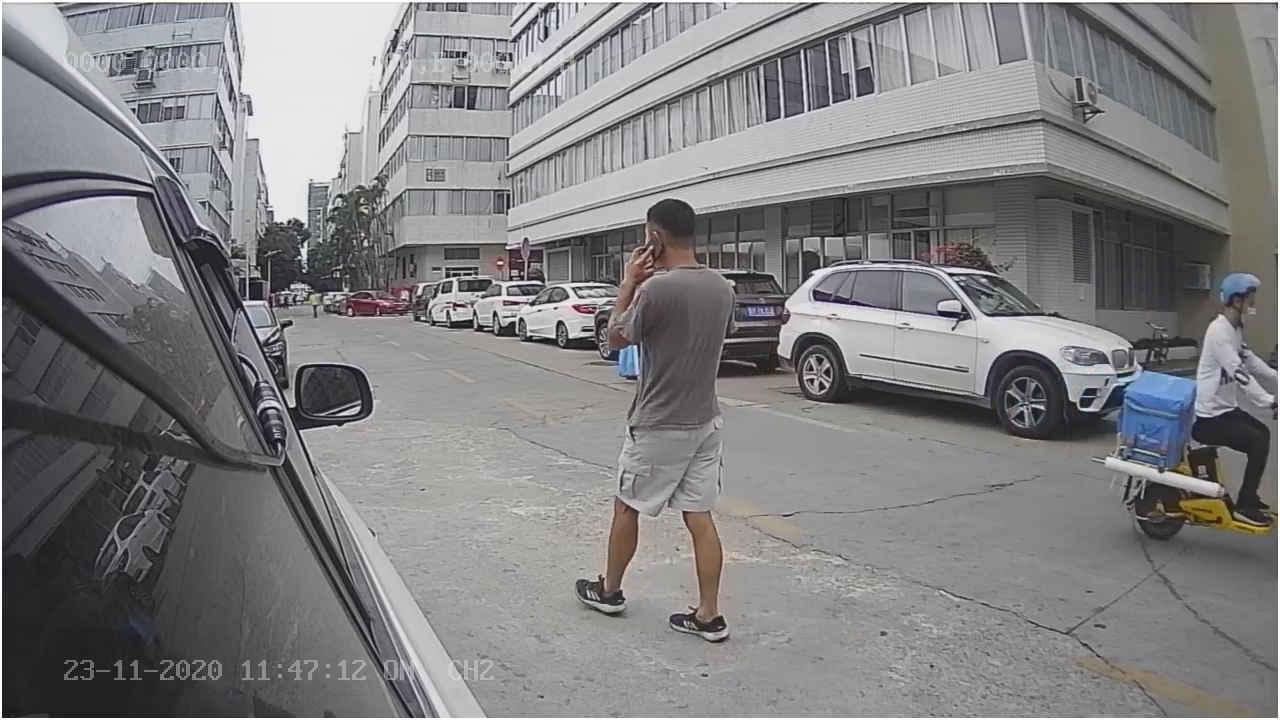person: (575, 192, 739, 639), (1185, 269, 1278, 412)
